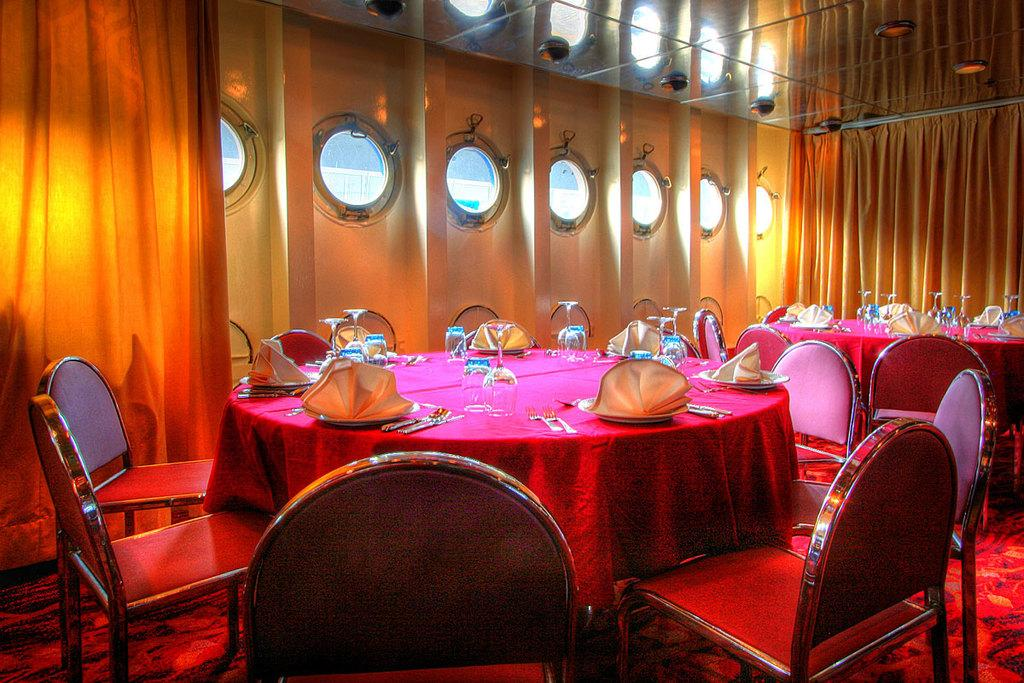Chair: (615, 415, 959, 682), (242, 450, 578, 682), (27, 393, 274, 681), (789, 367, 997, 681), (35, 354, 214, 538), (769, 338, 861, 483), (269, 329, 333, 366), (693, 308, 728, 363)
